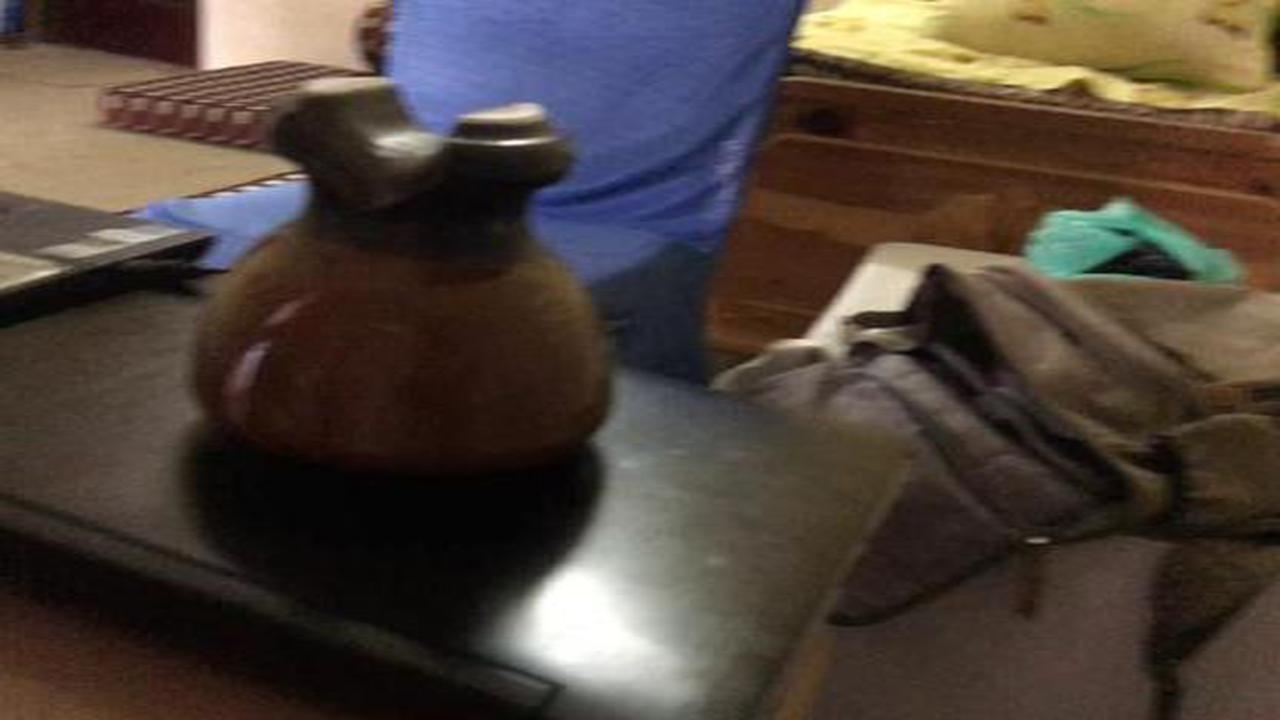insulator_pin: (159, 70, 634, 501)
